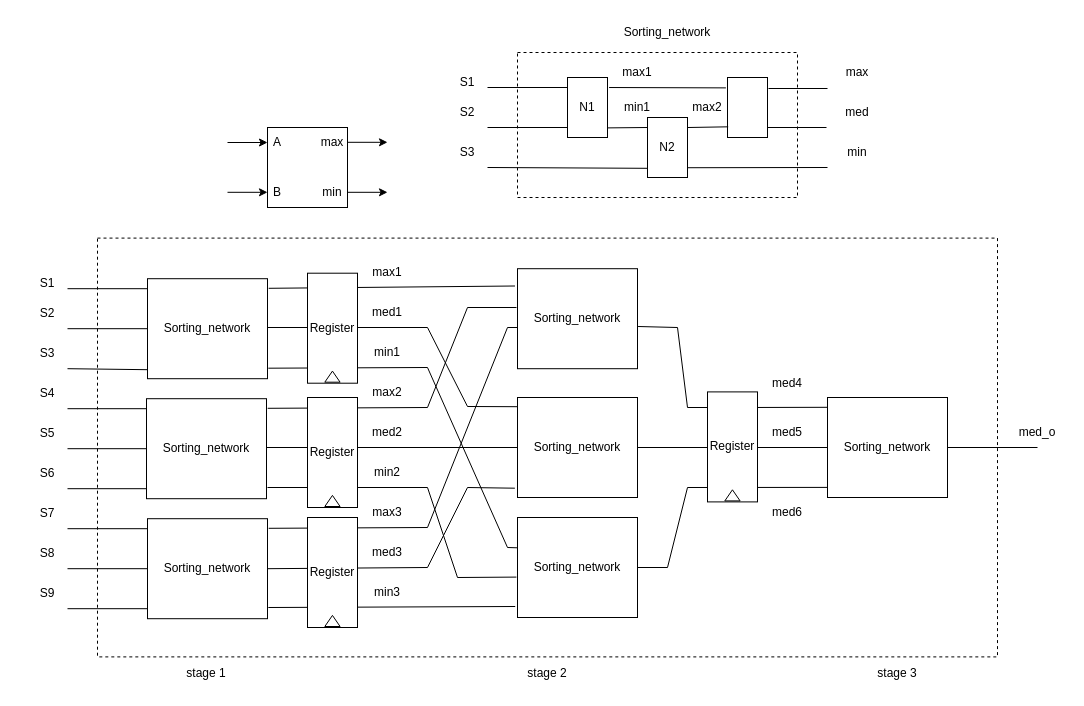
Some shapes in this 1084 by 706 pixel diagram are drawn without their labels. Each missing label, with the box of its shape:
N3: (726, 76, 768, 138)
Node: (266, 126, 348, 208)
